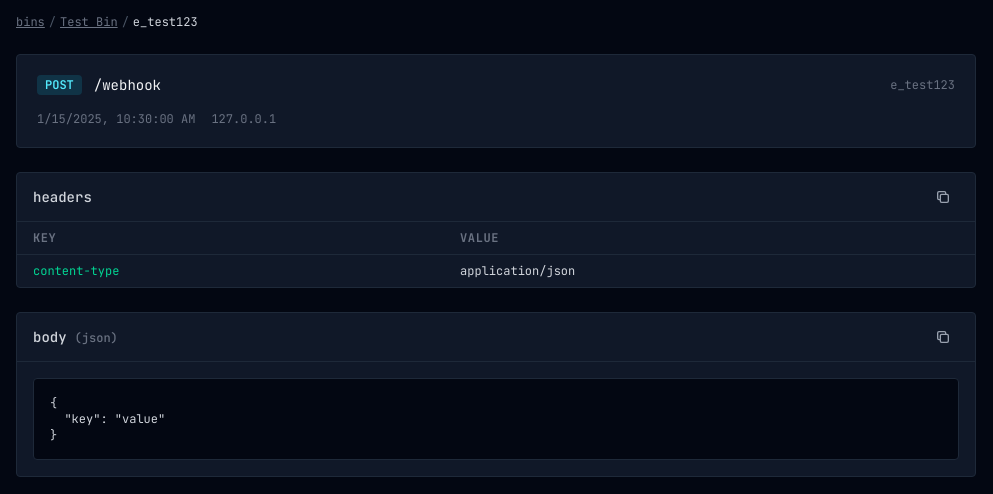
Test: EventDetail › copy buttons › copies body when copy button is clicked
The image size is (993, 494).
Click the button titled "Copy body": [943, 337] box top-left (927, 325), bottom-right (959, 349)
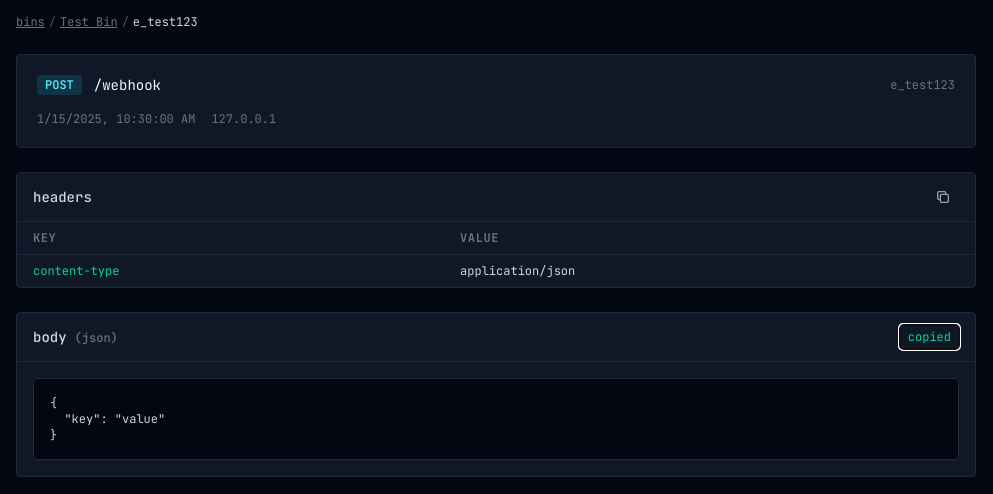
Expected: the text "copied" is shown, top-left (908, 329), bottom-right (951, 345)
